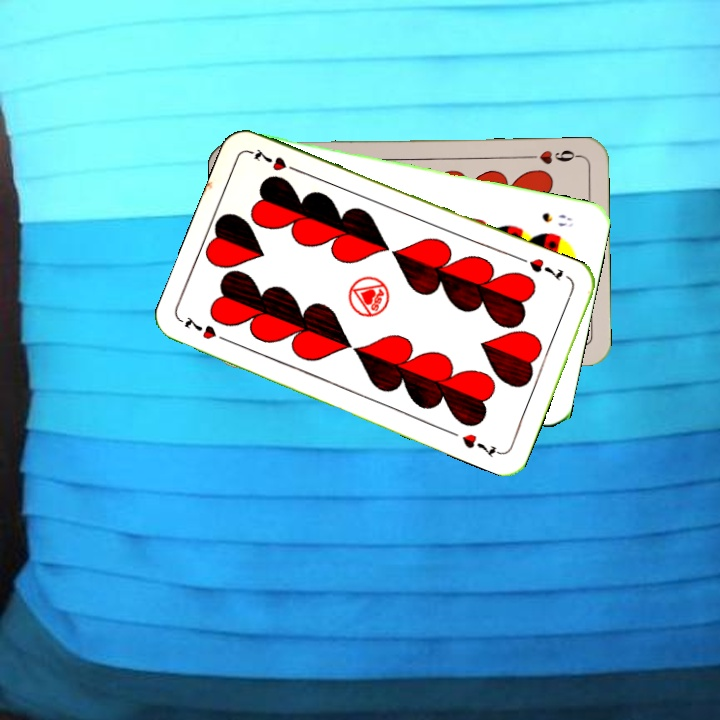H7: (180, 312, 234, 346), (525, 254, 566, 283)
H9: (523, 145, 582, 167)
S8: (537, 208, 576, 230)
